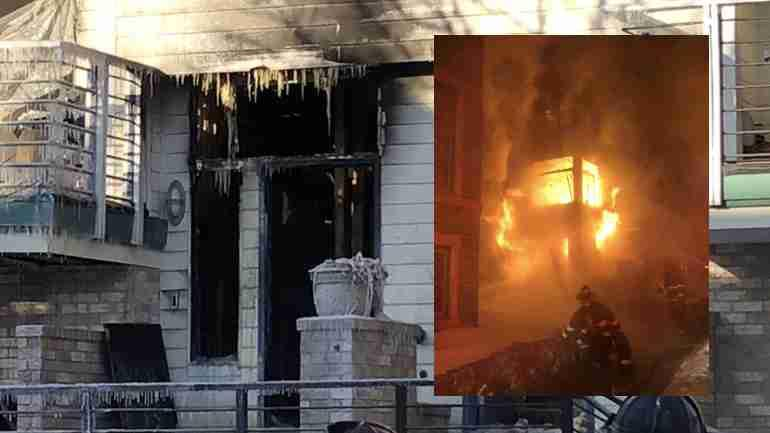Fire: (481, 131, 639, 271)
